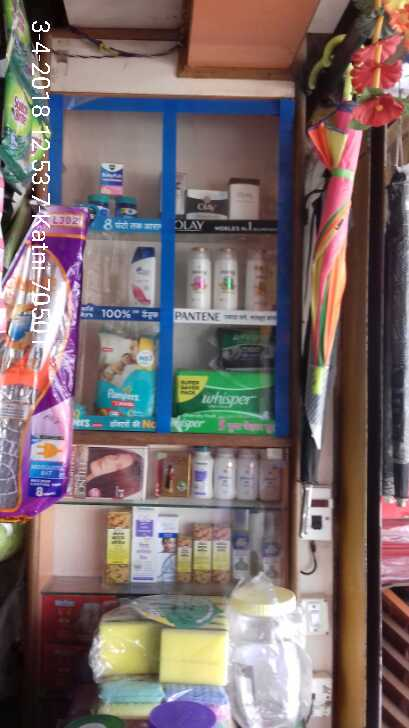vicks: (91, 157, 136, 207)
